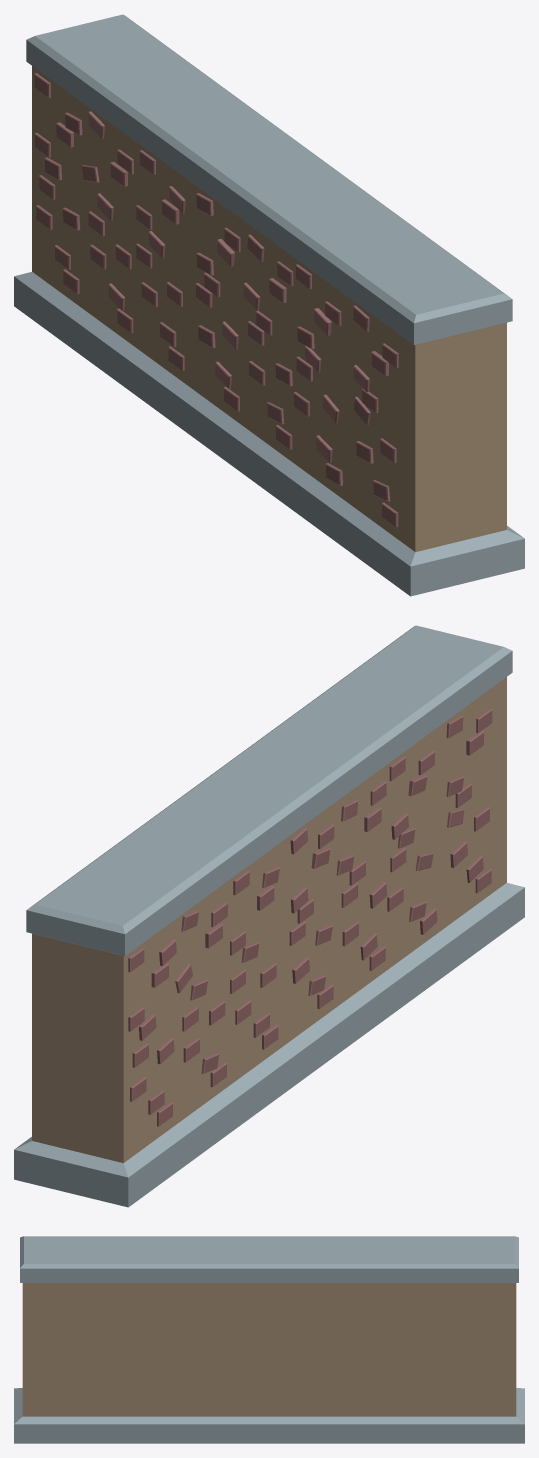
Rendered from WallSegment.fbx.
The picture shows the model from 3 angles, top to bottom: view 1: azimuth 30°, elevation 25°; view 2: azimuth 150°, elevation 25°; view 3: azimuth 270°, elevation 25°; orthographic projection. The views are drawn at different scales.
Parts seen in each view (by area): view 1: Cube; view 2: Cube; view 3: Cube.
Boxes of the visible parts, box(x1,y1,x2,y2) form: Cube: box(14, 14, 524, 596); Cube: box(14, 625, 524, 1207); Cube: box(14, 1236, 524, 1443).
Size of the model in its own units: 100 by 228 by 600.
